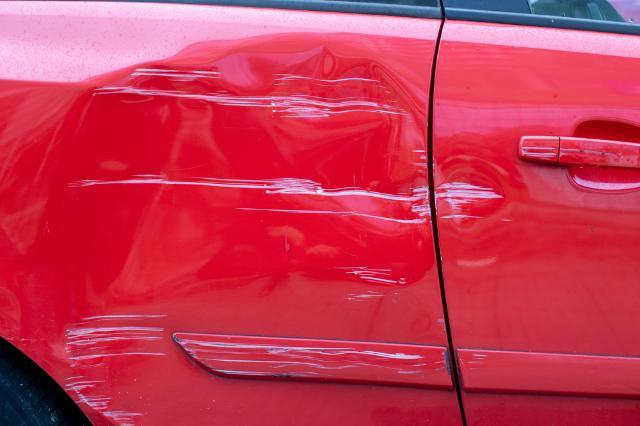dent: (37, 49, 436, 316), (436, 160, 508, 228)
scratch: (170, 332, 456, 379), (64, 304, 164, 426)
